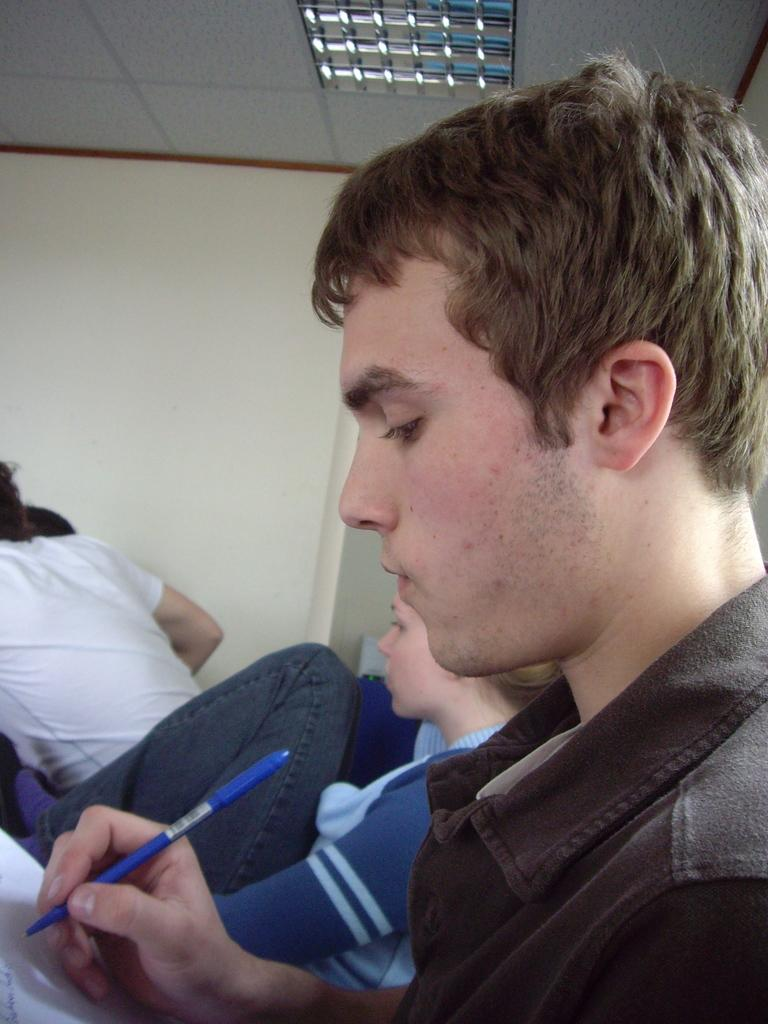pen: (18, 746, 291, 938)
